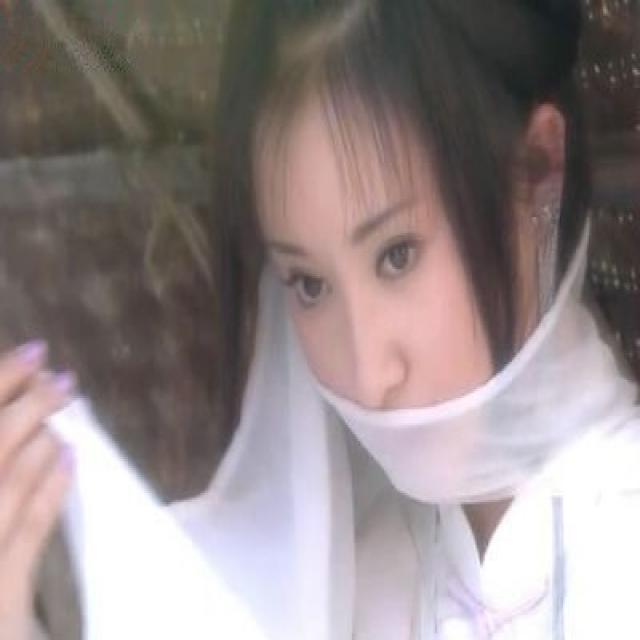nomask: (263, 88, 540, 500)
